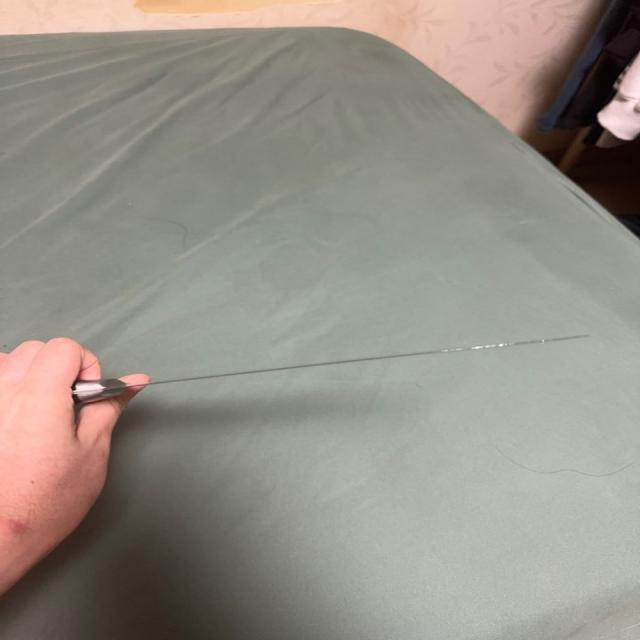knife: (76, 325, 611, 403)
